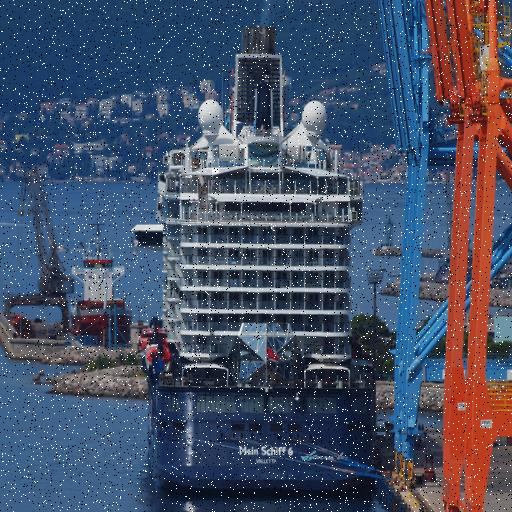cruises: (130, 22, 384, 506)
